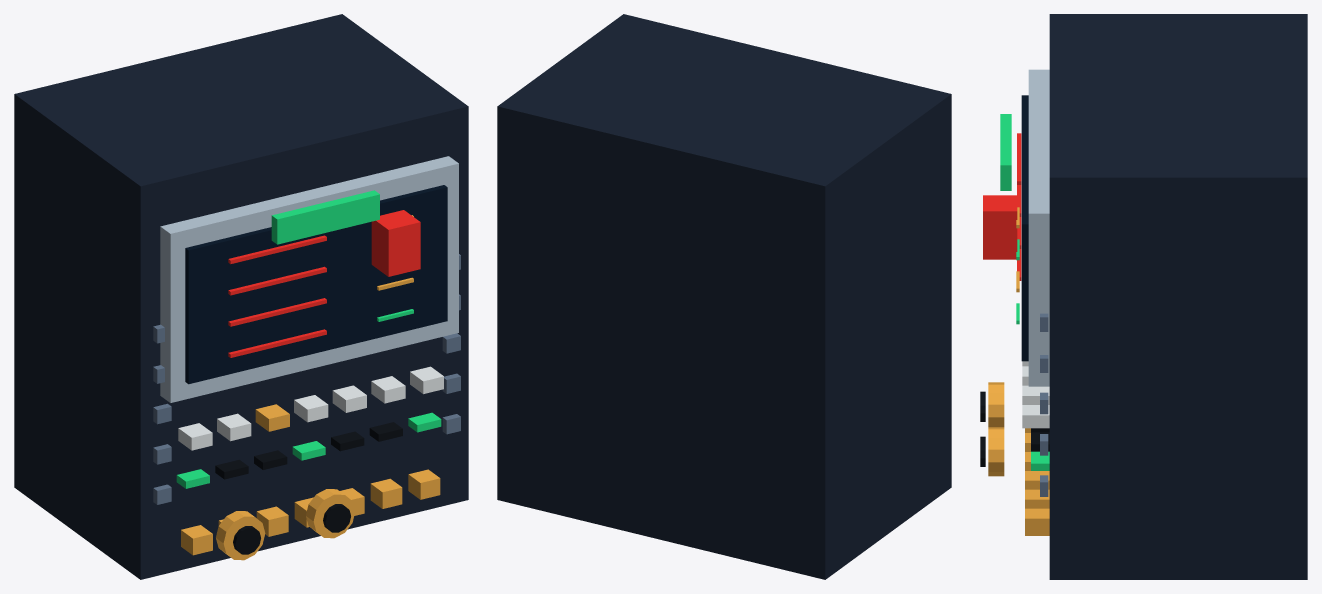
File: 87_L90_XenonFlowRestrictionFaultInjector.fbx
The picture shows the model from 3 angles, left to right: view 1: azimuth 30°, elevation 25°; view 2: azimuth 150°, elevation 25°; view 3: azimuth 270°, elevation 25°; orthographic projection. The views are drawn at different scales.
Parts seen in each view (by area): view 1: L90_XenonFlowRestrictionFaultInjector, L90_XenonFlowRestrictionFaultInjector_Part_0009, L90_XenonFlowRestrictionFaultInjector_Part_0012, L90_XenonFlowRestrictionFaultInjector_Part_0010, L90_XenonFlowRestrictionFaultInjector_Part_0011, L90_XenonFlowRestrictionFaultInjector_Part_0013; view 2: L90_XenonFlowRestrictionFaultInjector; view 3: L90_XenonFlowRestrictionFaultInjector, L90_XenonFlowRestrictionFaultInjector_Part_0009, L90_XenonFlowRestrictionFaultInjector_Part_0012, L90_XenonFlowRestrictionFaultInjector_Part_0010.
Boxes of the visible parts, x1,y1,x2,y2 form: L90_XenonFlowRestrictionFaultInjector: (14,14,468,579); L90_XenonFlowRestrictionFaultInjector_Part_0009: (271,190,379,244); L90_XenonFlowRestrictionFaultInjector_Part_0012: (306,489,355,538); L90_XenonFlowRestrictionFaultInjector_Part_0010: (216,511,265,560); L90_XenonFlowRestrictionFaultInjector_Part_0011: (233,526,260,554); L90_XenonFlowRestrictionFaultInjector_Part_0013: (323,504,350,532); L90_XenonFlowRestrictionFaultInjector: (497,14,951,579); L90_XenonFlowRestrictionFaultInjector: (983,14,1307,579); L90_XenonFlowRestrictionFaultInjector_Part_0009: (1000,114,1011,190); L90_XenonFlowRestrictionFaultInjector_Part_0012: (988,427,1004,476); L90_XenonFlowRestrictionFaultInjector_Part_0010: (988,382,1004,427).
Bounding box in the file's own units: 102 × 117 × 86.2.
